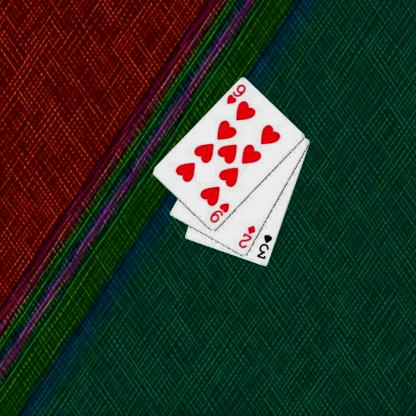2D: (236, 223, 256, 249)
3S: (254, 232, 274, 260)
9H: (207, 201, 230, 224), (224, 82, 247, 105)
